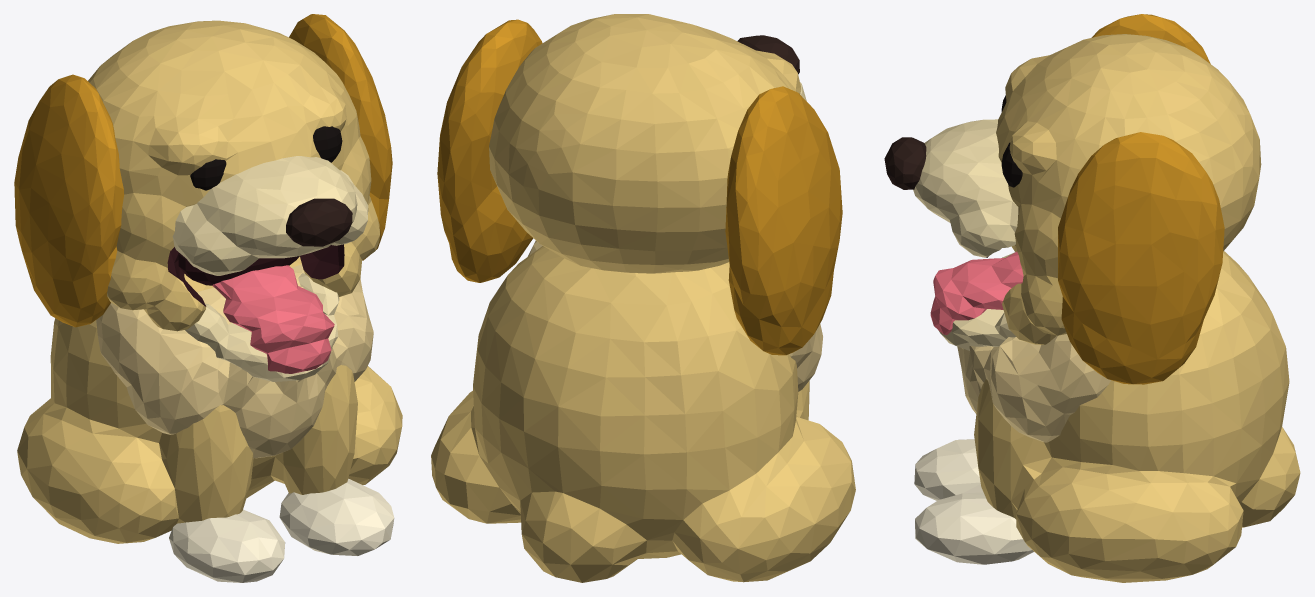
File: joey.glb
3 views of the same model, side by side, from view 1: azimuth 30°, elevation 25°; view 2: azimuth 150°, elevation 25°; view 3: azimuth 270°, elevation 25° (orthographic). The views are drawn at different scales.
Visible parts, largest first — view 1: Joey_Head, Joey_Body, Joey_EarL, Joey_Ruff, Joey_Muzzle, Joey_Paws, Joey_Tongue, Joey_EarR, Joey_Jaw, Joey_Nose, Joey_Mouth, Joey_EyeR (+1 smaller); view 2: Joey_Body, Joey_Head, Joey_EarL, Joey_EarR, Joey_Ruff, Joey_Nose; view 3: Joey_Body, Joey_Head, Joey_EarR, Joey_Ruff, Joey_Muzzle, Joey_Paws, Joey_Tongue, Joey_EarL, Joey_Jaw, Joey_Nose, Joey_EyeR.
Part boxes in pixels (bbox=[...]): Joey_Head: bbox=[88, 20, 379, 331]; Joey_Body: bbox=[17, 256, 402, 543]; Joey_EarL: bbox=[14, 74, 124, 327]; Joey_Ruff: bbox=[96, 264, 373, 458]; Joey_Muzzle: bbox=[172, 156, 368, 275]; Joey_Paws: bbox=[169, 478, 394, 582]; Joey_Tongue: bbox=[212, 265, 334, 373]; Joey_EarR: bbox=[289, 14, 392, 260]; Joey_Jaw: bbox=[185, 273, 339, 381]; Joey_Nose: bbox=[286, 198, 352, 246]; Joey_Mouth: bbox=[178, 253, 299, 285]; Joey_EyeR: bbox=[313, 126, 342, 162]; Joey_Body: bbox=[431, 246, 855, 582]; Joey_Head: bbox=[489, 14, 800, 273]; Joey_EarL: bbox=[725, 86, 842, 355]; Joey_EarR: bbox=[437, 19, 542, 282]; Joey_Ruff: bbox=[528, 240, 822, 391]; Joey_Nose: bbox=[737, 35, 799, 74]; Joey_Body: bbox=[974, 251, 1300, 582]; Joey_Head: bbox=[996, 34, 1261, 344]; Joey_EarR: bbox=[1058, 132, 1224, 384]; Joey_Ruff: bbox=[957, 334, 1110, 442]; Joey_Muzzle: bbox=[913, 119, 1018, 257]; Joey_Paws: bbox=[914, 439, 1033, 564]; Joey_Tongue: bbox=[930, 251, 1023, 335]; Joey_EarL: bbox=[1091, 14, 1210, 63]; Joey_Jaw: bbox=[938, 252, 1016, 350]; Joey_Nose: bbox=[884, 137, 926, 189]; Joey_EyeR: bbox=[1001, 142, 1022, 187].
Bounding box in the file's own units: 1.78 × 2.36 × 1.88.
